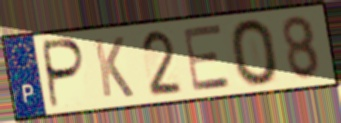2: (139, 27, 186, 101)
8: (279, 13, 321, 83)
E: (180, 22, 234, 94)
K: (90, 35, 136, 100)
O: (228, 16, 282, 88)
P: (42, 36, 88, 111)
